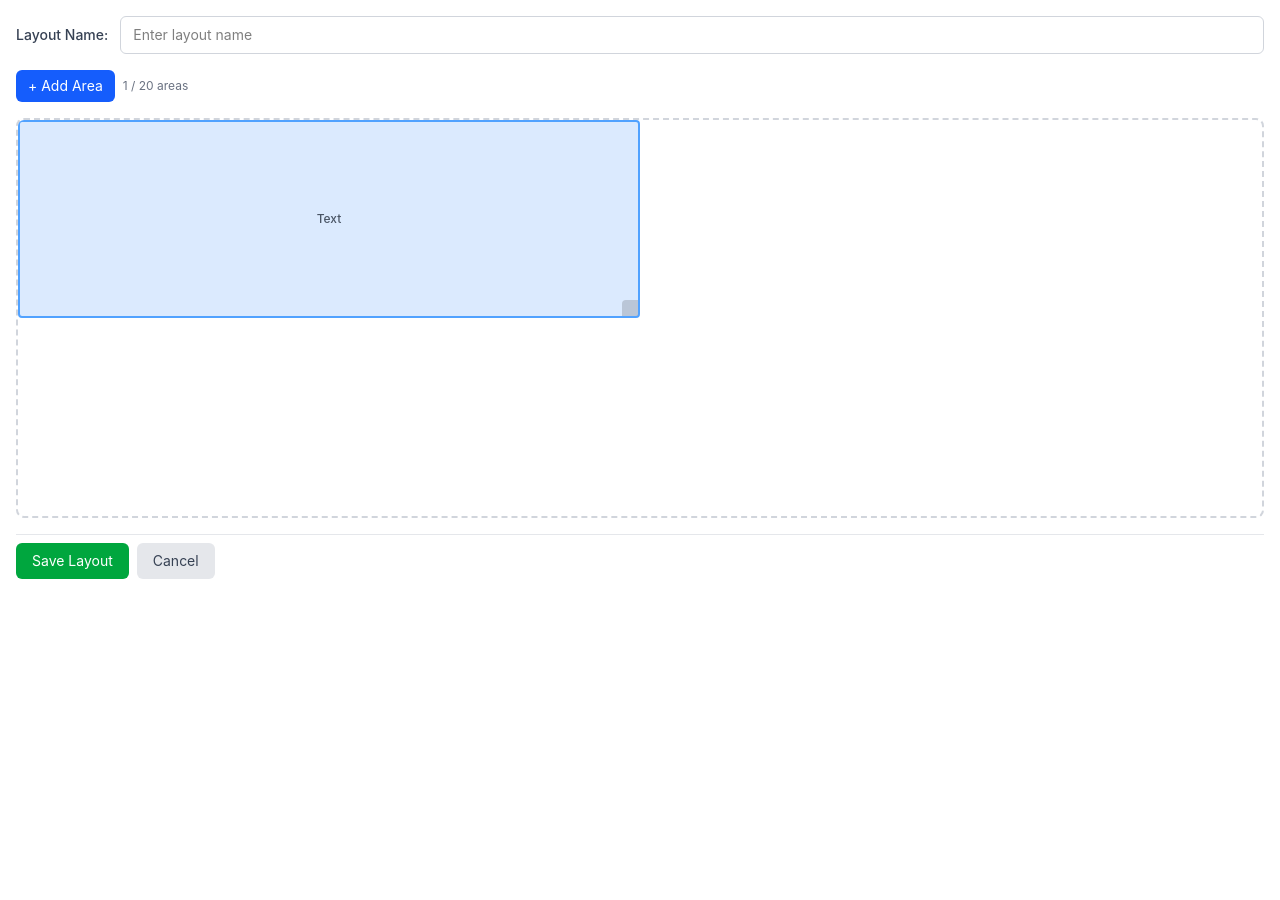
LayoutEditor › Content Area Management › removes a content area when clicking remove
The image size is (1280, 900).
// Select the default area by clicking on it
Step 1. Click the button with test id "^content-area-" → (329, 219), box [18, 120, 640, 318]
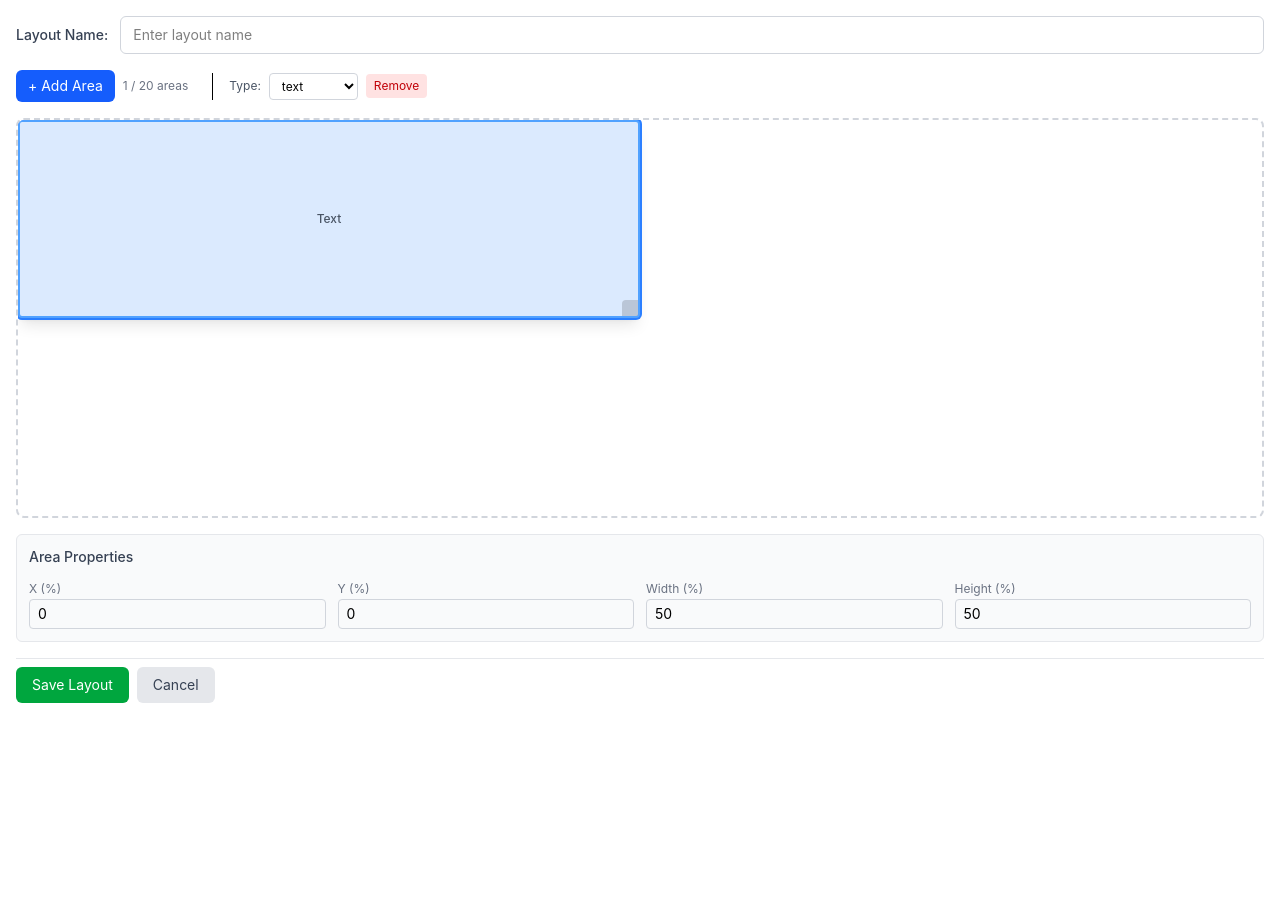
Check: the button with aria-label "Remove selected content area" is shown
Step 2. Click the button with aria-label "Remove selected content area" → (397, 86), box [366, 74, 427, 98]
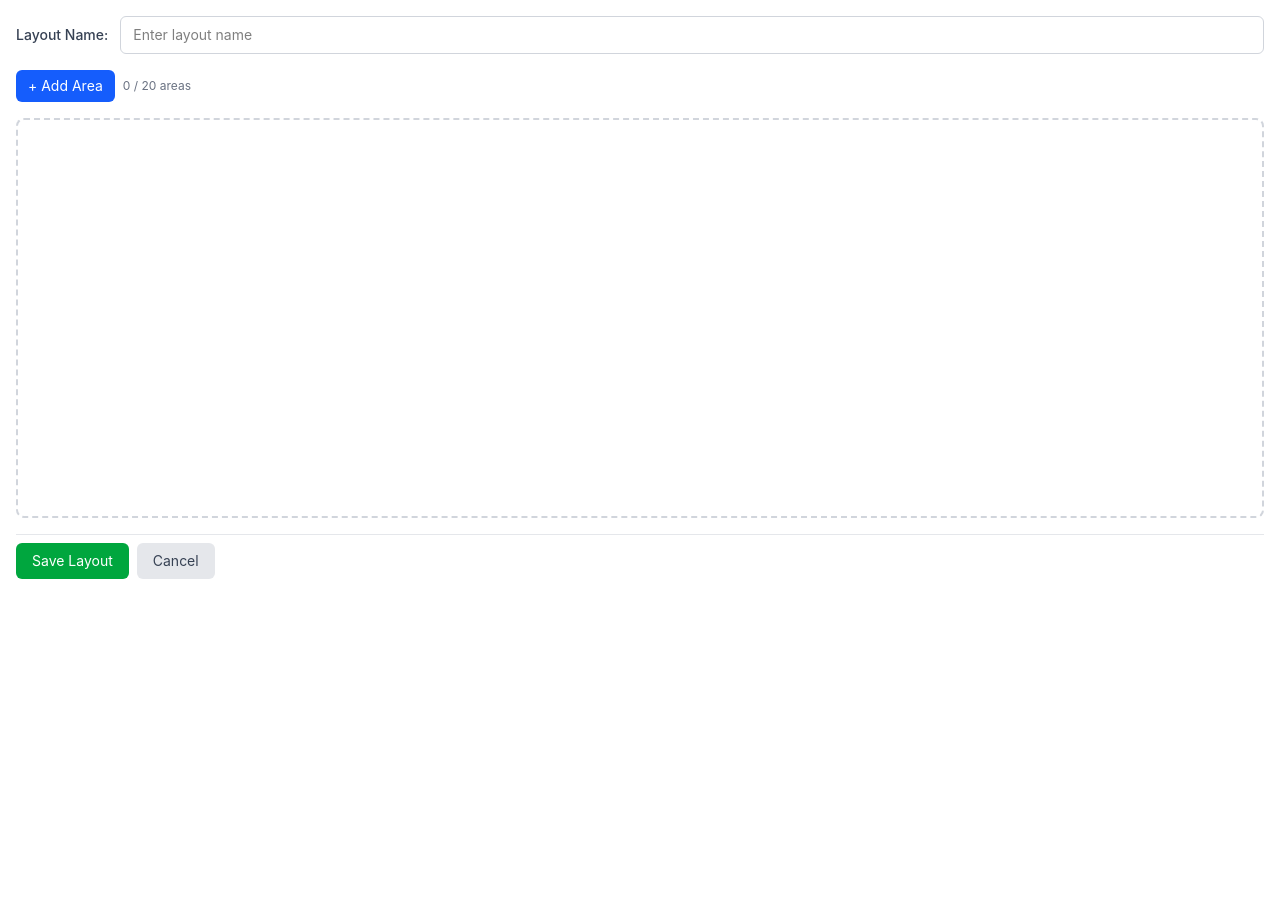
Check: the text "0 / 20 areas" is shown, box [123, 78, 191, 94]
